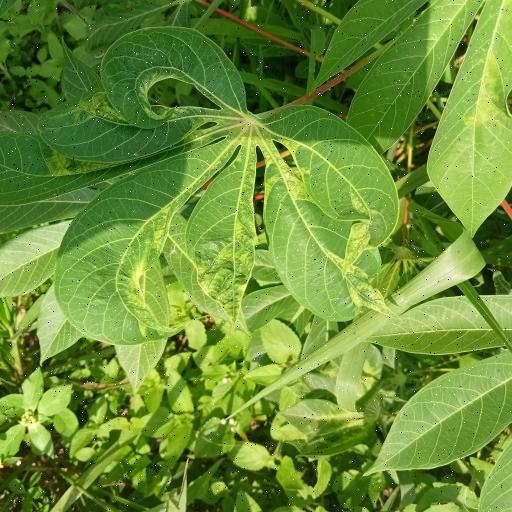Cassava_Healthy: (0, 25, 400, 349)
